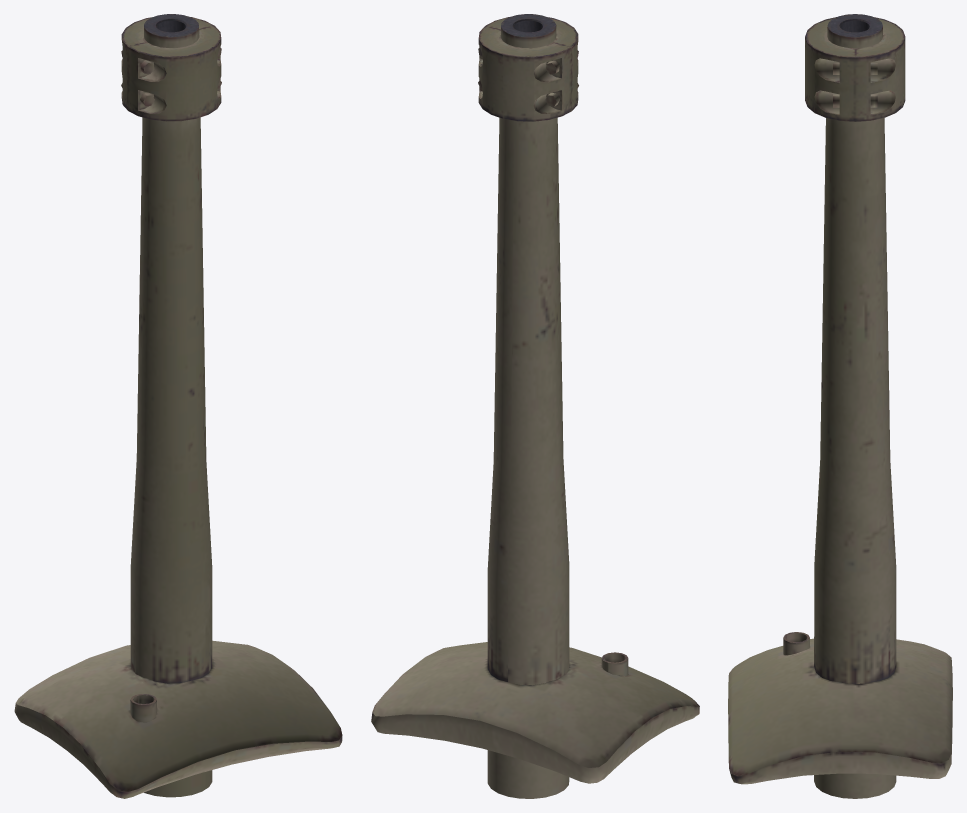
Rendered from Gun_01.glb.
The picture shows the model from 3 angles, left to right: view 1: azimuth 30°, elevation 25°; view 2: azimuth 150°, elevation 25°; view 3: azimuth 270°, elevation 25°; orthographic projection.
Parts seen in each view (by area): view 1: set_0_group_0; view 2: set_0_group_0; view 3: set_0_group_0.
Part boxes in pixels (box(x1,y1,x2,y2)): set_0_group_0: box(14, 14, 342, 798); set_0_group_0: box(371, 14, 699, 798); set_0_group_0: box(728, 14, 952, 798).
Size of the model in its own units: 0.5211 by 1.61 by 0.4351.
Materials: 1 (1 with a texture image).
